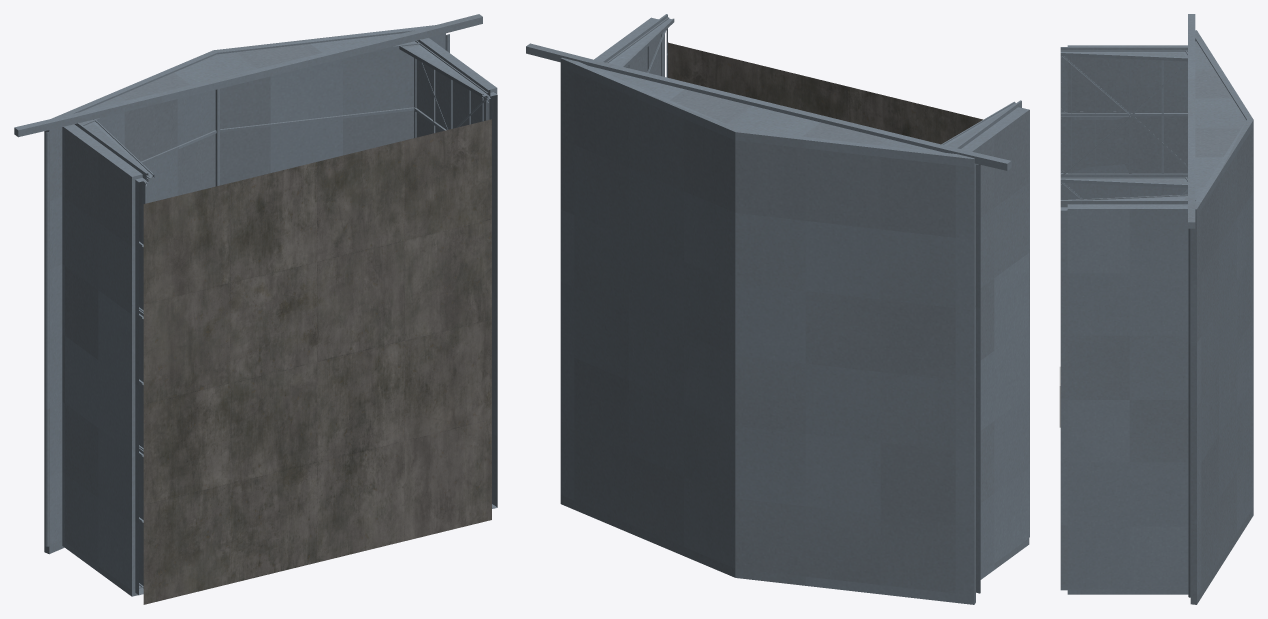
The model's file is hangar.fbx.
The picture shows the model from 3 angles, left to right: view 1: azimuth 30°, elevation 25°; view 2: azimuth 150°, elevation 25°; view 3: azimuth 270°, elevation 25°; orthographic projection. The views are drawn at different scales.
Parts seen in each view (by area): view 1: Plane, AirHangar; view 2: AirHangar, Plane; view 3: AirHangar.
Part boxes in pixels (x1,y1,x2,y2): Plane: [143, 119, 491, 604]; AirHangar: [14, 14, 497, 596]; AirHangar: [526, 14, 1029, 604]; Plane: [668, 42, 982, 144]; AirHangar: [1060, 14, 1253, 604].
Bounding box in the file's own units: 8348 × 7488 × 3306.
